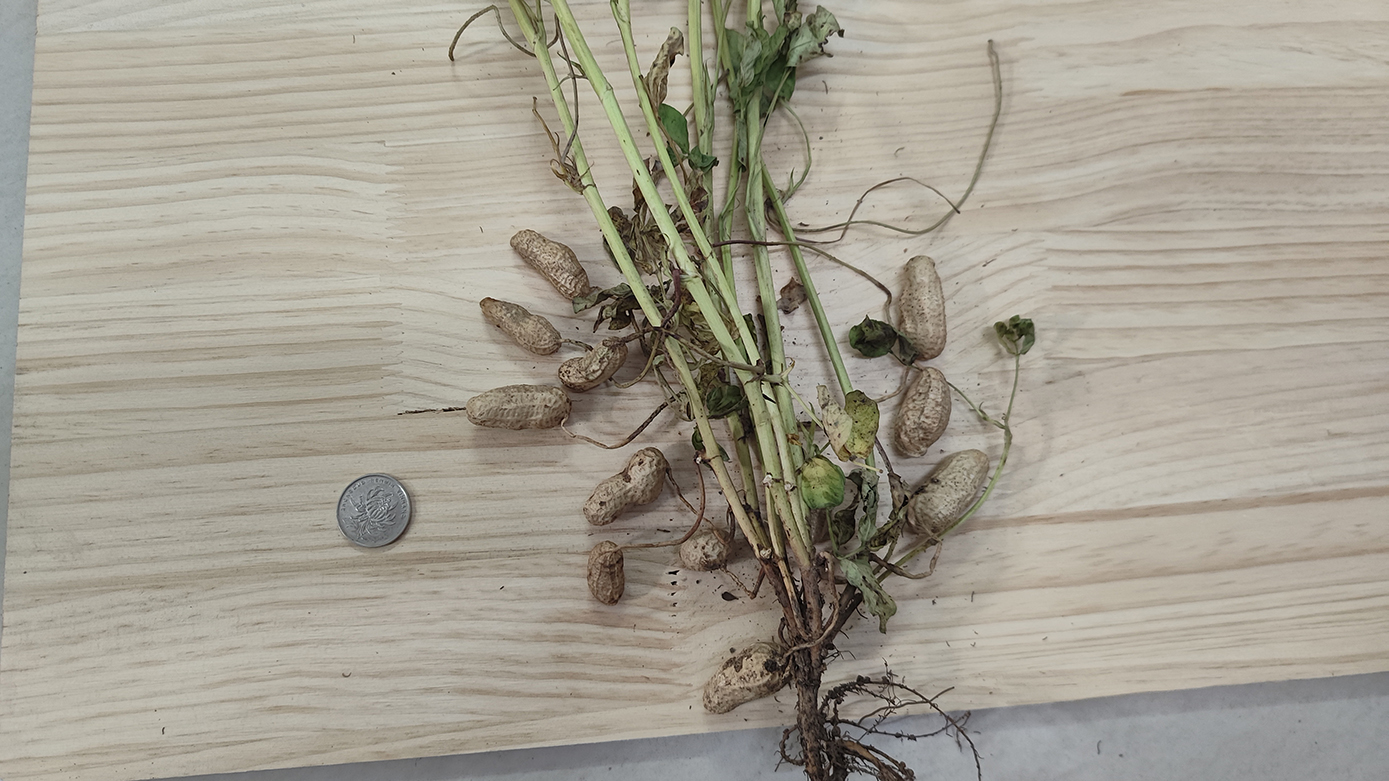h: (907, 450, 992, 535), (582, 446, 667, 525), (701, 641, 789, 715), (510, 230, 589, 298), (895, 367, 953, 457), (898, 256, 947, 357), (468, 383, 572, 430), (479, 295, 562, 353), (558, 337, 627, 388), (587, 541, 625, 606), (680, 529, 728, 571)
